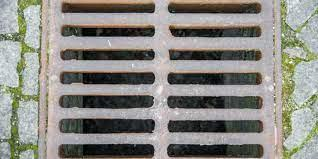open drainage-not overflowing-: (41, 0, 282, 159)
